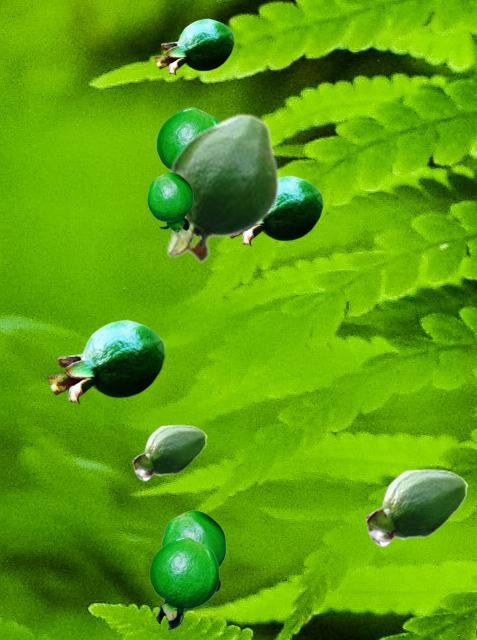guava: (166, 112, 278, 263), (47, 319, 164, 403), (365, 468, 467, 546), (149, 536, 218, 629), (232, 175, 322, 245), (161, 510, 225, 592), (154, 18, 233, 74), (132, 424, 206, 480), (156, 107, 218, 169), (147, 172, 192, 231)
